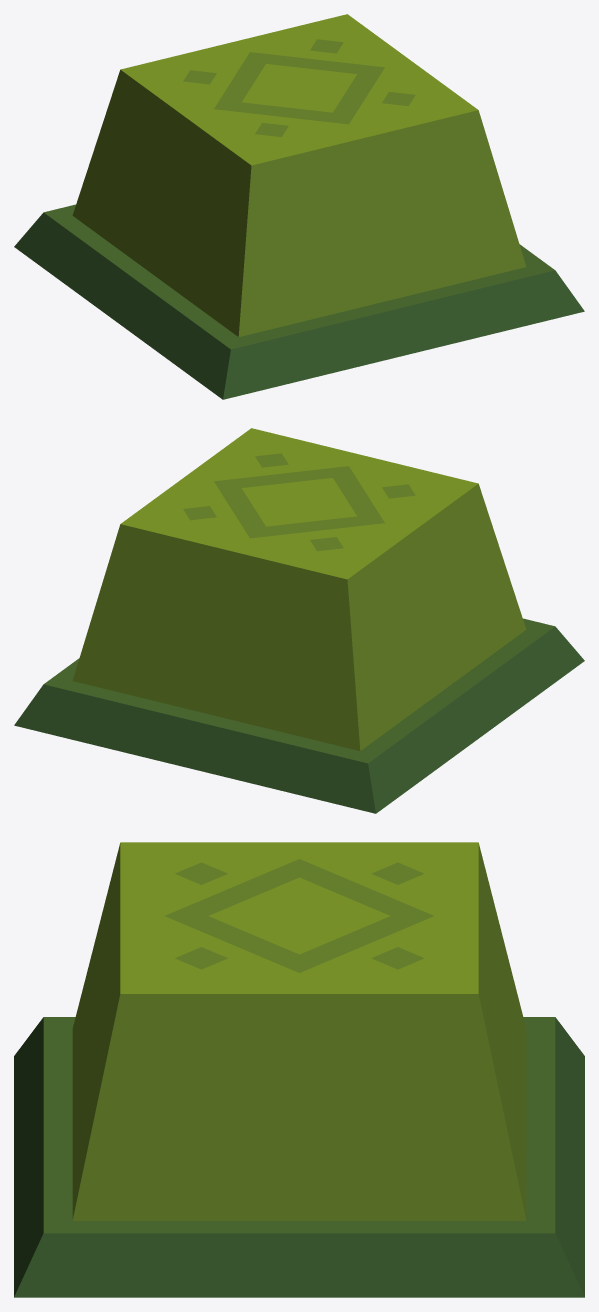
File: switch.fbx
3 views of the same model, one above another, from view 1: azimuth 30°, elevation 25°; view 2: azimuth 150°, elevation 25°; view 3: azimuth 270°, elevation 25° (orthographic). The views are drawn at different scales.
Visible parts, largest first — view 1: Mesh_Switch, Mesh_SwitchBase; view 2: Mesh_Switch, Mesh_SwitchBase; view 3: Mesh_Switch, Mesh_SwitchBase.
Part boxes in pixels (x1,y1,x2,y2): Mesh_Switch: (72, 14, 526, 336); Mesh_SwitchBase: (14, 204, 584, 399); Mesh_Switch: (72, 428, 526, 750); Mesh_SwitchBase: (14, 618, 584, 813); Mesh_Switch: (72, 842, 526, 1220); Mesh_SwitchBase: (14, 1017, 584, 1297).
Bounding box in the file's own units: 2 × 2 × 1.01.
